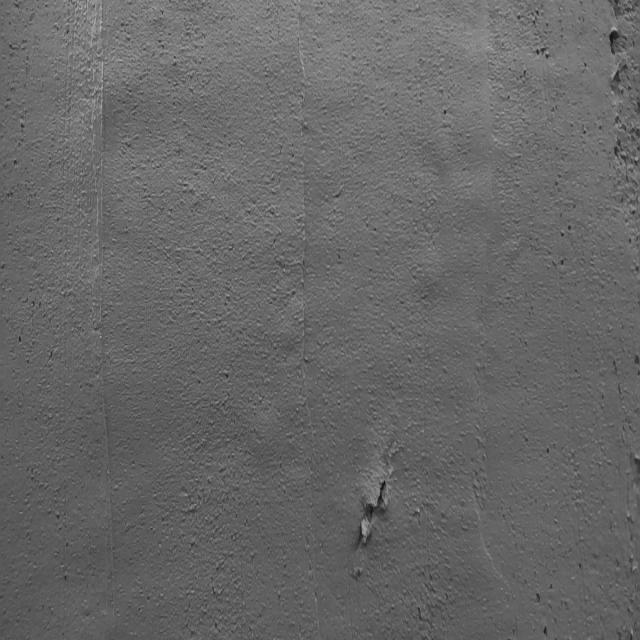trowels marks: (464, 0, 517, 640), (86, 13, 127, 640), (292, 10, 325, 640)
